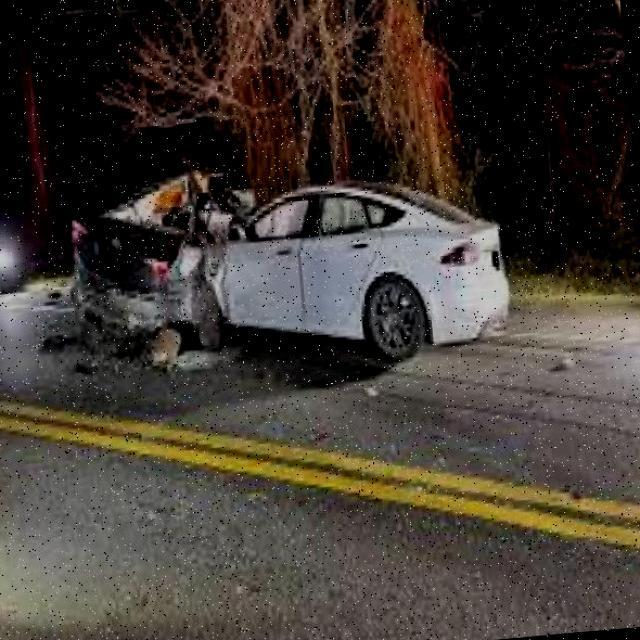accident: (57, 136, 523, 397)
